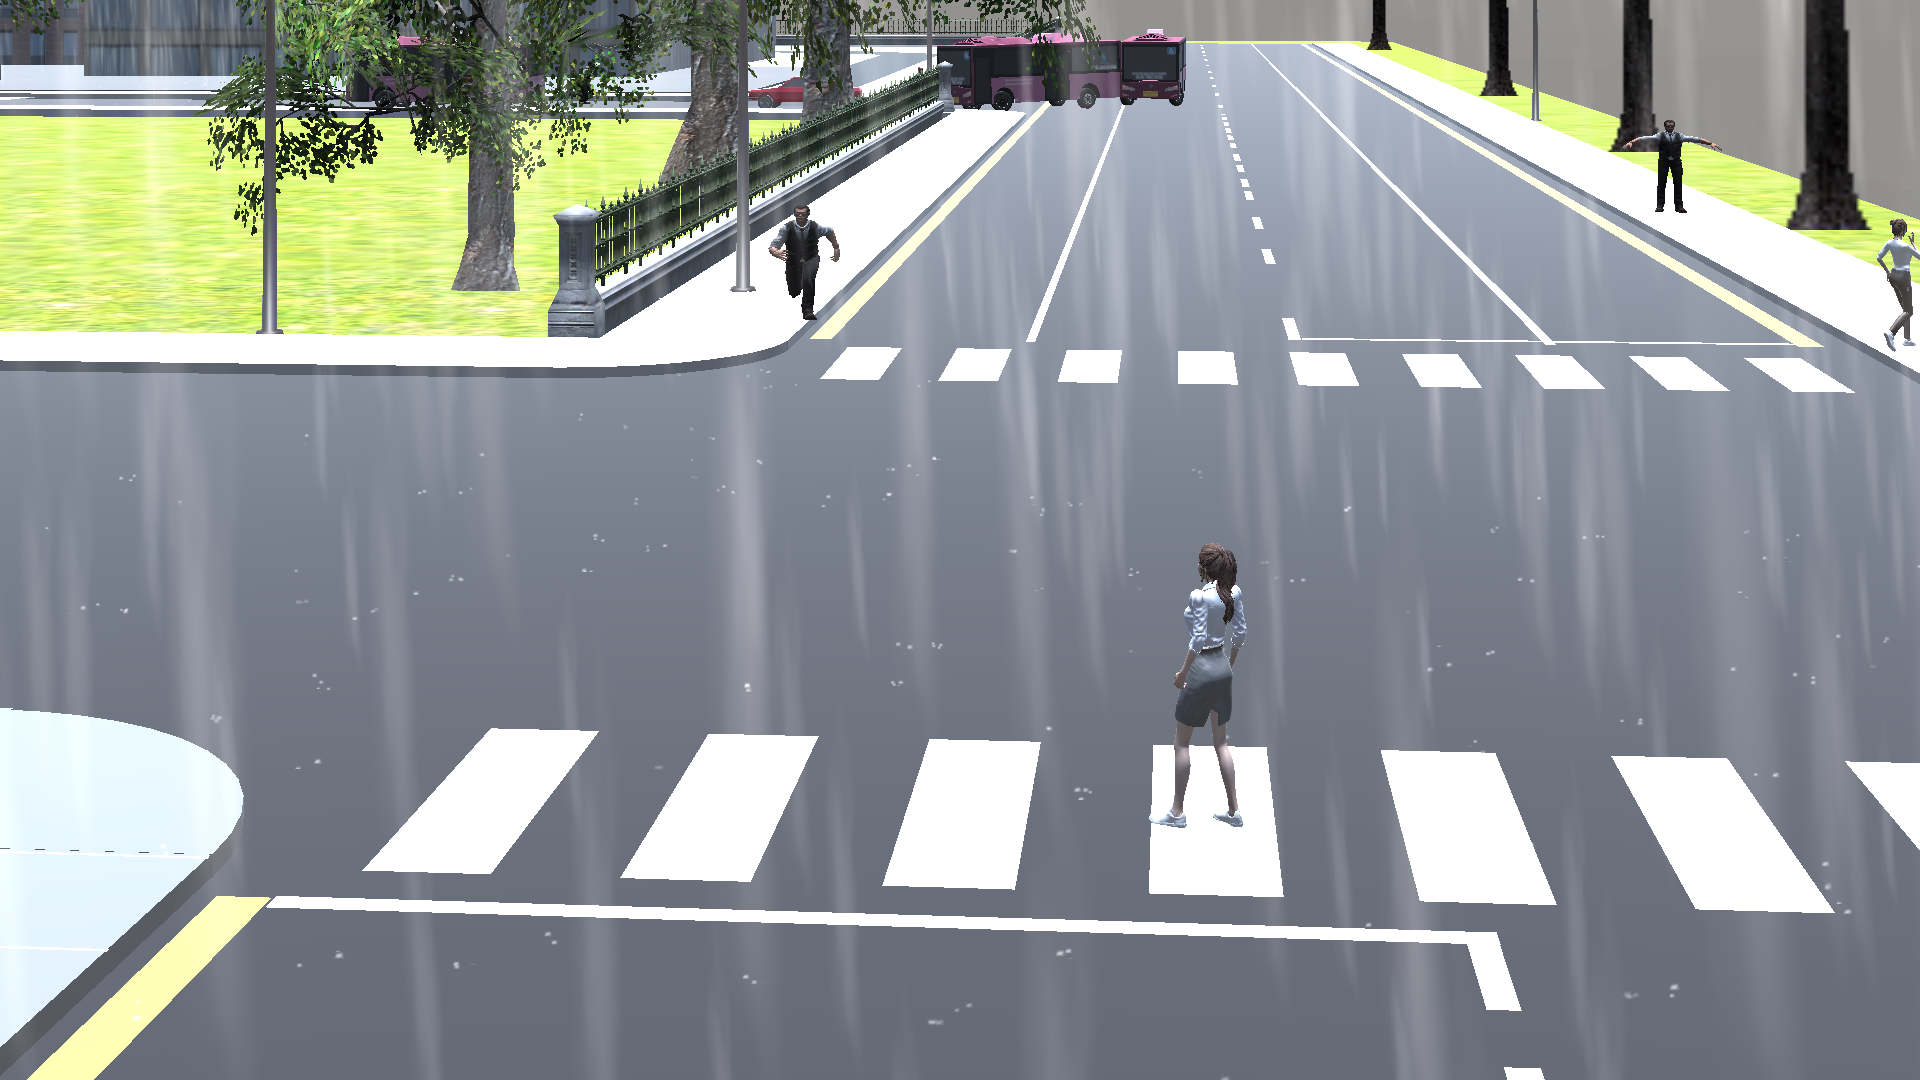pedestrian: (1154, 532, 1257, 839), (754, 202, 841, 343), (1622, 113, 1717, 231), (1878, 207, 1920, 358)
